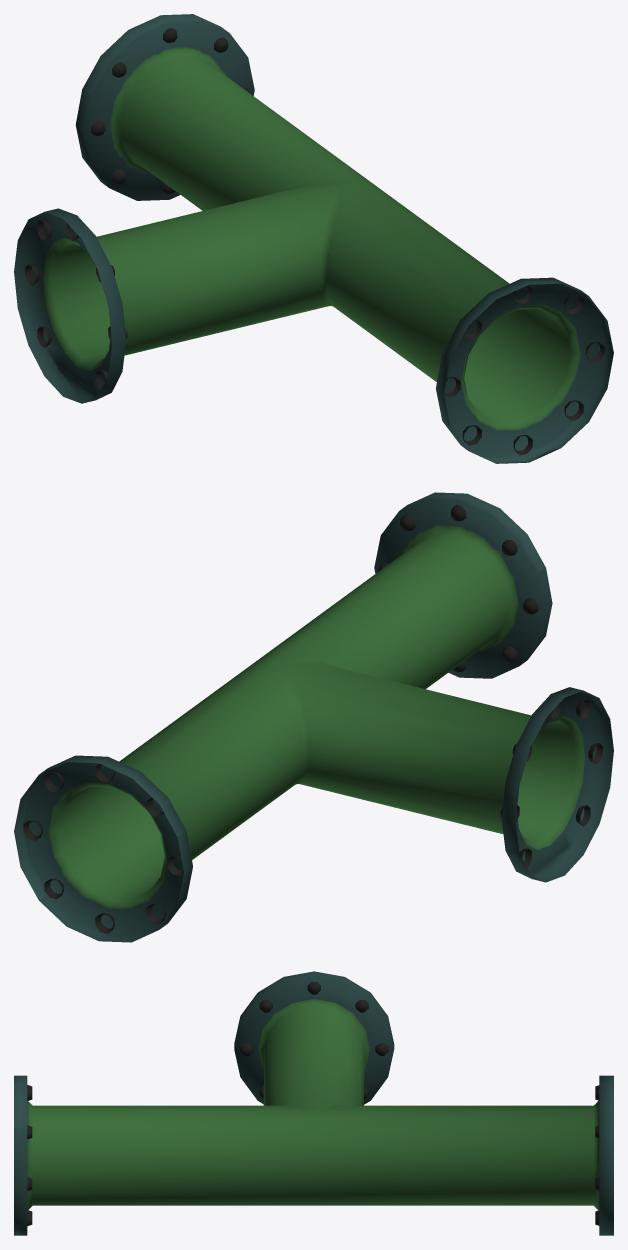
Rendered from PipeT.fbx.
3 views of the same model, one above another, from view 1: azimuth 30°, elevation 25°; view 2: azimuth 150°, elevation 25°; view 3: azimuth 270°, elevation 25° (orthographic). The views are drawn at different scales.
Visible parts, largest first — view 1: PipeT; view 2: PipeT; view 3: PipeT.
Part boxes in pixels (x1,y1,x2,y2): PipeT: (14, 14, 613, 463); PipeT: (14, 492, 613, 942); PipeT: (14, 971, 613, 1235).
Bounding box in the file's own units: 276 × 128 × 480.
